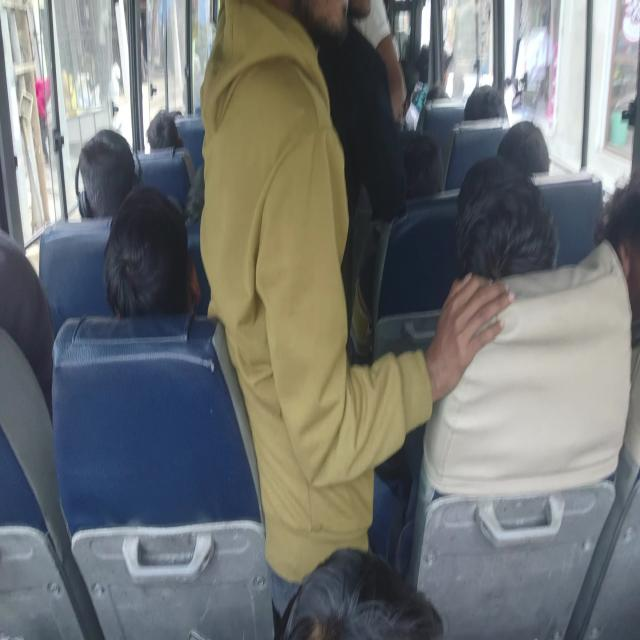person: (275, 512, 453, 640), (463, 157, 558, 313), (84, 204, 193, 318), (0, 210, 54, 346), (76, 139, 140, 222), (258, 0, 350, 56), (599, 176, 640, 291), (398, 131, 456, 189), (459, 75, 510, 121), (134, 101, 176, 152), (498, 116, 543, 157), (349, 0, 377, 56), (417, 47, 462, 77), (421, 87, 449, 115)
